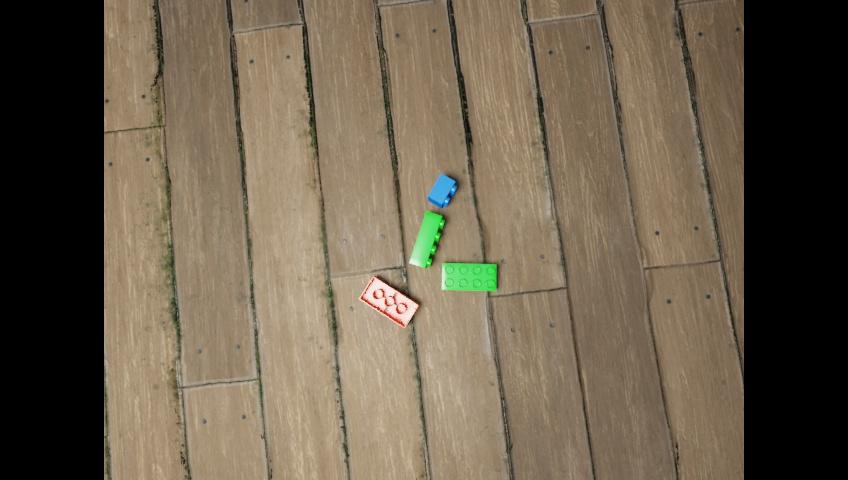2x2_blue: (428, 173, 456, 208)
4x2_green: (409, 210, 443, 267), (441, 262, 495, 290)
4x2_orange: (359, 275, 418, 327)
